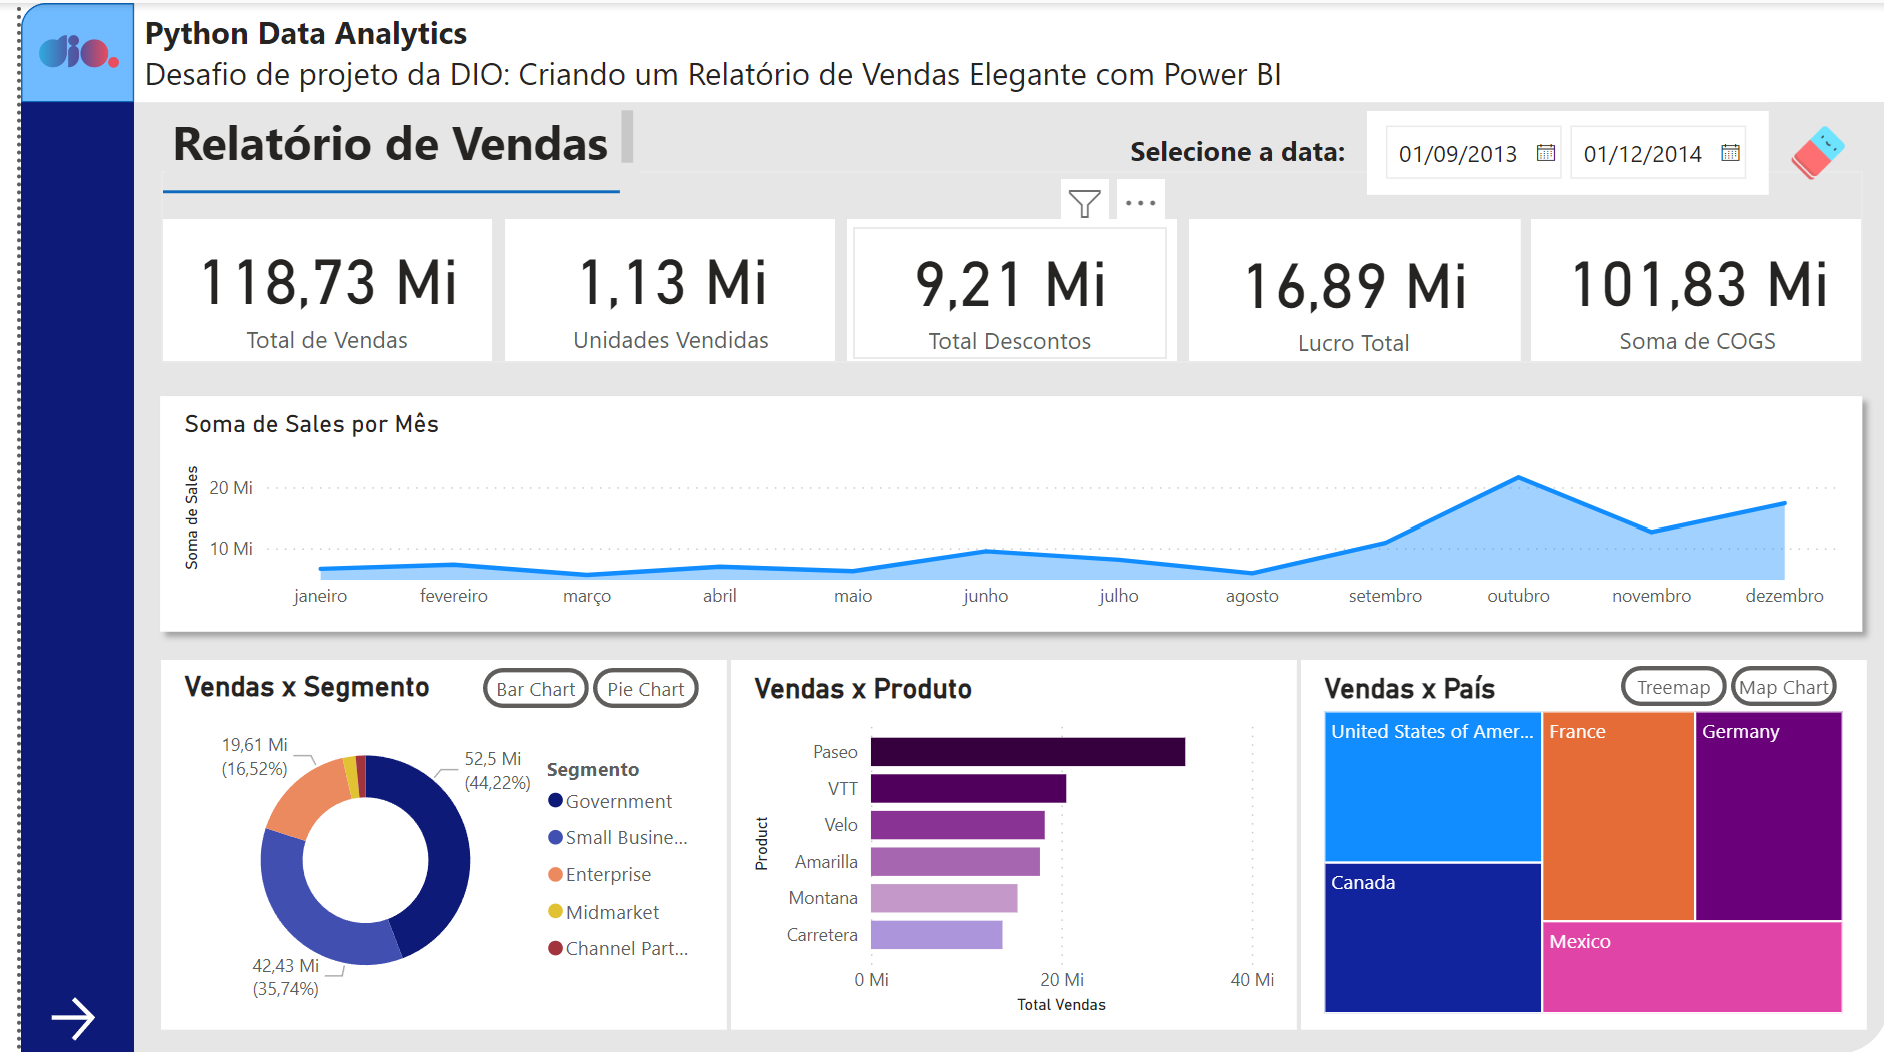

The dashboard page shown, as its layout file describes it:
{"tool":"powerbi","page":{"name":"Página 1","canvas":[1280,720],"ordinal":0},"visuals":[{"type":"shape","box":[38.4,0,1242.5,720],"z":0},{"type":"shape","box":[96.3,148.6,227.2,98.5],"z":0,"group":"g1"},{"type":"shape","box":[0,0,77.6,719.5],"z":1000},{"type":"slicer","fields":{"Values":["financials.Date"]},"box":[923,74.1,275.7,57.6],"z":1000,"group":"g2"},{"type":"shape","box":[332.2,148.3,226.3,98.7],"z":1000,"group":"g1"},{"type":"map","title":"Vendas x País","fields":{"Category":["financials.Country"],"Size":["Sum(financials. Sales)"]},"box":[888.7,458.1,366.2,238.6],"z":1000,"group":"g3"},{"type":"shape","box":[0,0,77.6,68.2],"z":2000},{"type":"textbox","box":[755.7,83.7,167.3,38.4],"z":2000,"group":"g2"},{"type":"shape","box":[566.7,148.3,226.3,98.7],"z":2000,"group":"g1"},{"type":"image","title":"IconBorracha","box":[1198.7,79.6,67.2,46.6],"z":2500,"group":"g2"},{"type":"image","title":"LogoDIO","box":[0,9.5,79.5,47.3],"z":3000},{"type":"actionButton","box":[1212.4,83.7,45.3,38.4],"z":3000,"group":"g2"},{"type":"shape","box":[801.2,148.3,227.7,98.7],"z":3000,"group":"g1"},{"type":"donutChart","title":"Vendas x Segmento","fields":{"Y":["Sum(financials. Sales)"],"Category":["financials.Segment"]},"box":[107.6,457.3,365.5,238.9],"z":3000,"group":"g4"},{"type":"treemap","title":"Vendas x País","fields":{"Group":["financials.Country"],"Values":["Sum(financials. Sales)"]},"box":[889.2,457.3,365.5,238.9],"z":3000,"group":"g3"},{"type":"actionButton","title":"Botão - map","box":[1173,453.7,72.7,27.4],"z":3250,"group":"g3"},{"type":"actionButton","title":"Botão - Bar","box":[316.8,455.7,72.7,27.4],"z":3250,"group":"g4"},{"type":"actionButton","title":"Botão - treemap","box":[1097.6,453.7,72.7,27.4],"z":3500,"group":"g3"},{"type":"actionButton","title":"Botão - Pie","box":[392.3,455.7,72.7,27.4],"z":3500,"group":"g4"},{"type":"shape","box":[77.6,0,1202.4,68.2],"z":4000},{"type":"shape","box":[1035.7,148.3,227.7,98.7],"z":4000,"group":"g1"},{"type":"shape","box":[97.4,115.3,313.3,28.5],"z":4250,"group":"g1"},{"type":"card","fields":{"Values":["Sum(financials. Sales)"]},"box":[102.9,152.2,213.9,90.5],"z":4500,"group":"g1"},{"type":"card","fields":{"Values":["Sum(financials.Discounts)"]},"box":[571.2,153.5,215.2,90.2],"z":4625,"group":"g1"},{"type":"card","fields":{"Values":["Sum(financials.Units Sold)"]},"box":[338.8,152.2,213.9,90.5],"z":4750,"group":"g1"},{"type":"card","fields":{"Values":["Sum(financials.COGS)"]},"box":[1042.7,153.5,215.2,90.2],"z":4875,"group":"g1"},{"type":"card","fields":{"Values":["Sum(financials.Profit)"]},"box":[806.9,155,215.2,90.2],"z":4937,"group":"g1"},{"type":"textbox","box":[79.5,0,1119.1,68.2],"z":5000},{"type":"group","id":"g1","title":"Cartões","box":[96.3,115.3,1167.1,131.8],"z":6000},{"type":"textbox","box":[98.1,68,325.9,49],"z":7000},{"type":"shape","box":[87,261.1,1185.1,178.8],"z":8000},{"type":"shape","box":[96,449.8,388.1,253.7],"z":9000},{"type":"shape","box":[486.9,449.8,388.1,253.7],"z":10000},{"type":"shape","box":[877.7,449.8,388.1,253.7],"z":11000},{"type":"areaChart","fields":{"Category":["financials.Date.Variation.Hierarquia de datas.Mês"],"Y":["Sum(financials. Sales)"]},"box":[107.6,278.5,1143.9,145.6],"z":12000},{"type":"clusteredBarChart","title":"Vendas x Produto","fields":{"Y":["Sum(financials. Sales)"],"Category":["financials.Product"]},"box":[497.8,458.1,366.2,238.6],"z":13000},{"type":"group","id":"g2","title":"Filtro por Data","box":[755.7,74.1,510.2,57.6],"z":14000},{"type":"group","id":"g3","title":"VendasporPaís","box":[888.7,453.7,366.2,243],"z":15000},{"type":"group","id":"g4","title":"VendasPorSegmento","box":[107,455.7,366.2,241],"z":16000},{"type":"actionButton","box":[15.1,676.1,49.4,39.8],"z":17000}]}

Visuals, with their boxes on the page's 1280x720 design canvas (x1, y1, x2, y2). These are canvas units, not pixel positions in the 1884x1052 screenshot, which may show the page scaled, cropped or inside an application window:
shape: 38,0,1281,720
shape: 96,149,324,247
shape: 0,0,78,720
slicer - financials.Date: 923,74,1199,132
shape: 332,148,558,247
"Vendas x País" map: 889,458,1255,697
shape: 0,0,78,68
textbox: 756,84,923,122
shape: 567,148,793,247
"IconBorracha" image: 1199,80,1266,126
"LogoDIO" image: 0,10,80,57
actionButton: 1212,84,1258,122
shape: 801,148,1029,247
"Vendas x Segmento" donutChart: 108,457,473,696
"Vendas x País" treemap: 889,457,1255,696
"Botão - map" actionButton: 1173,454,1246,481
"Botão - Bar" actionButton: 317,456,390,483
"Botão - treemap" actionButton: 1098,454,1170,481
"Botão - Pie" actionButton: 392,456,465,483
shape: 78,0,1280,68
shape: 1036,148,1263,247
shape: 97,115,411,144
card - Sum(financials. Sales): 103,152,317,243
card - Sum(financials.Discounts): 571,154,786,244
card - Sum(financials.Units Sold): 339,152,553,243
card - Sum(financials.COGS): 1043,154,1258,244
card - Sum(financials.Profit): 807,155,1022,245
textbox: 80,0,1199,68
"Cartões" group: 96,115,1263,247
textbox: 98,68,424,117
shape: 87,261,1272,440
shape: 96,450,484,704
shape: 487,450,875,704
shape: 878,450,1266,704
areaChart - financials.Date.Variation.Hierarquia de datas.Mês x Sum(financials. Sales): 108,278,1252,424
"Vendas x Produto" clusteredBarChart: 498,458,864,697
"Filtro por Data" group: 756,74,1266,132
"VendasporPaís" group: 889,454,1255,697
"VendasPorSegmento" group: 107,456,473,697
actionButton: 15,676,64,716
